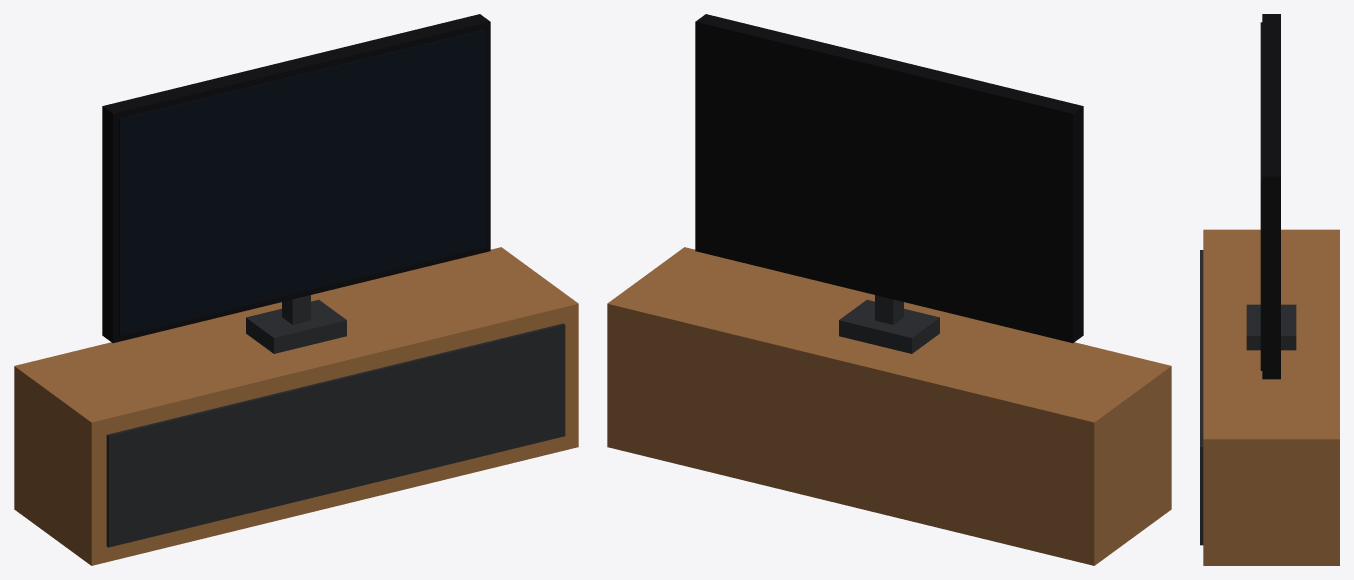
Rendered from sb_tv_flat.glb.
The picture shows the model from 3 angles, left to right: view 1: azimuth 30°, elevation 25°; view 2: azimuth 150°, elevation 25°; view 3: azimuth 270°, elevation 25°; orthographic projection. The views are drawn at different scales.
Parts seen in each view (by area): view 1: sb_tv_flat; view 2: sb_tv_flat; view 3: sb_tv_flat.
Part boxes in pixels (<box>): sb_tv_flat: <box>14,14,578,565</box>; sb_tv_flat: <box>607,14,1171,565</box>; sb_tv_flat: <box>1200,14,1339,565</box>.
Bounding box in the file's own units: 1.6 × 1.3 × 0.45.
